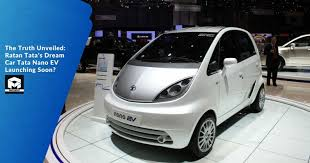Nano: (104, 25, 266, 157)
